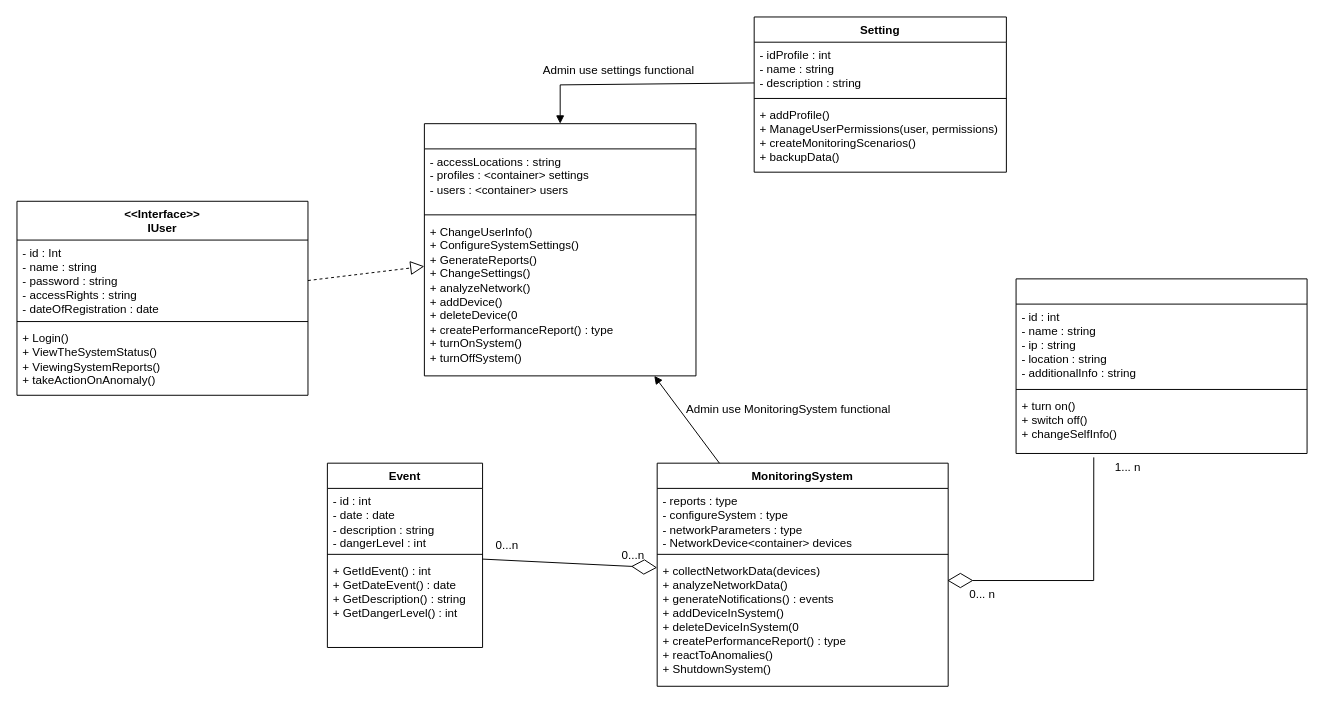
Some shapes in this 1324 by 706 pixel diagram are drawn without their labels. Each missing label, with the box of its shape:
Admin: (423, 123, 696, 376)
NetworkDevice: (1015, 278, 1307, 453)
